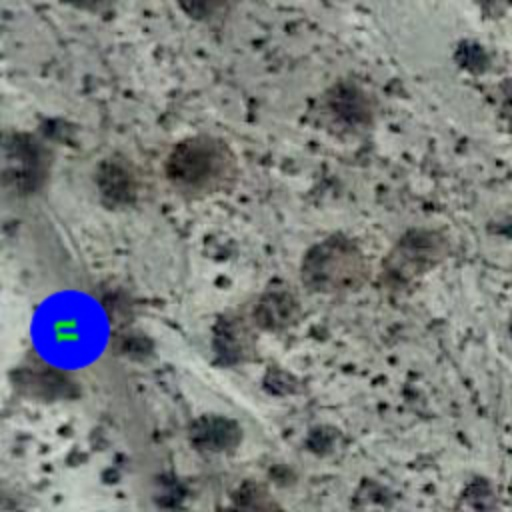circle: (24, 284, 116, 376)
